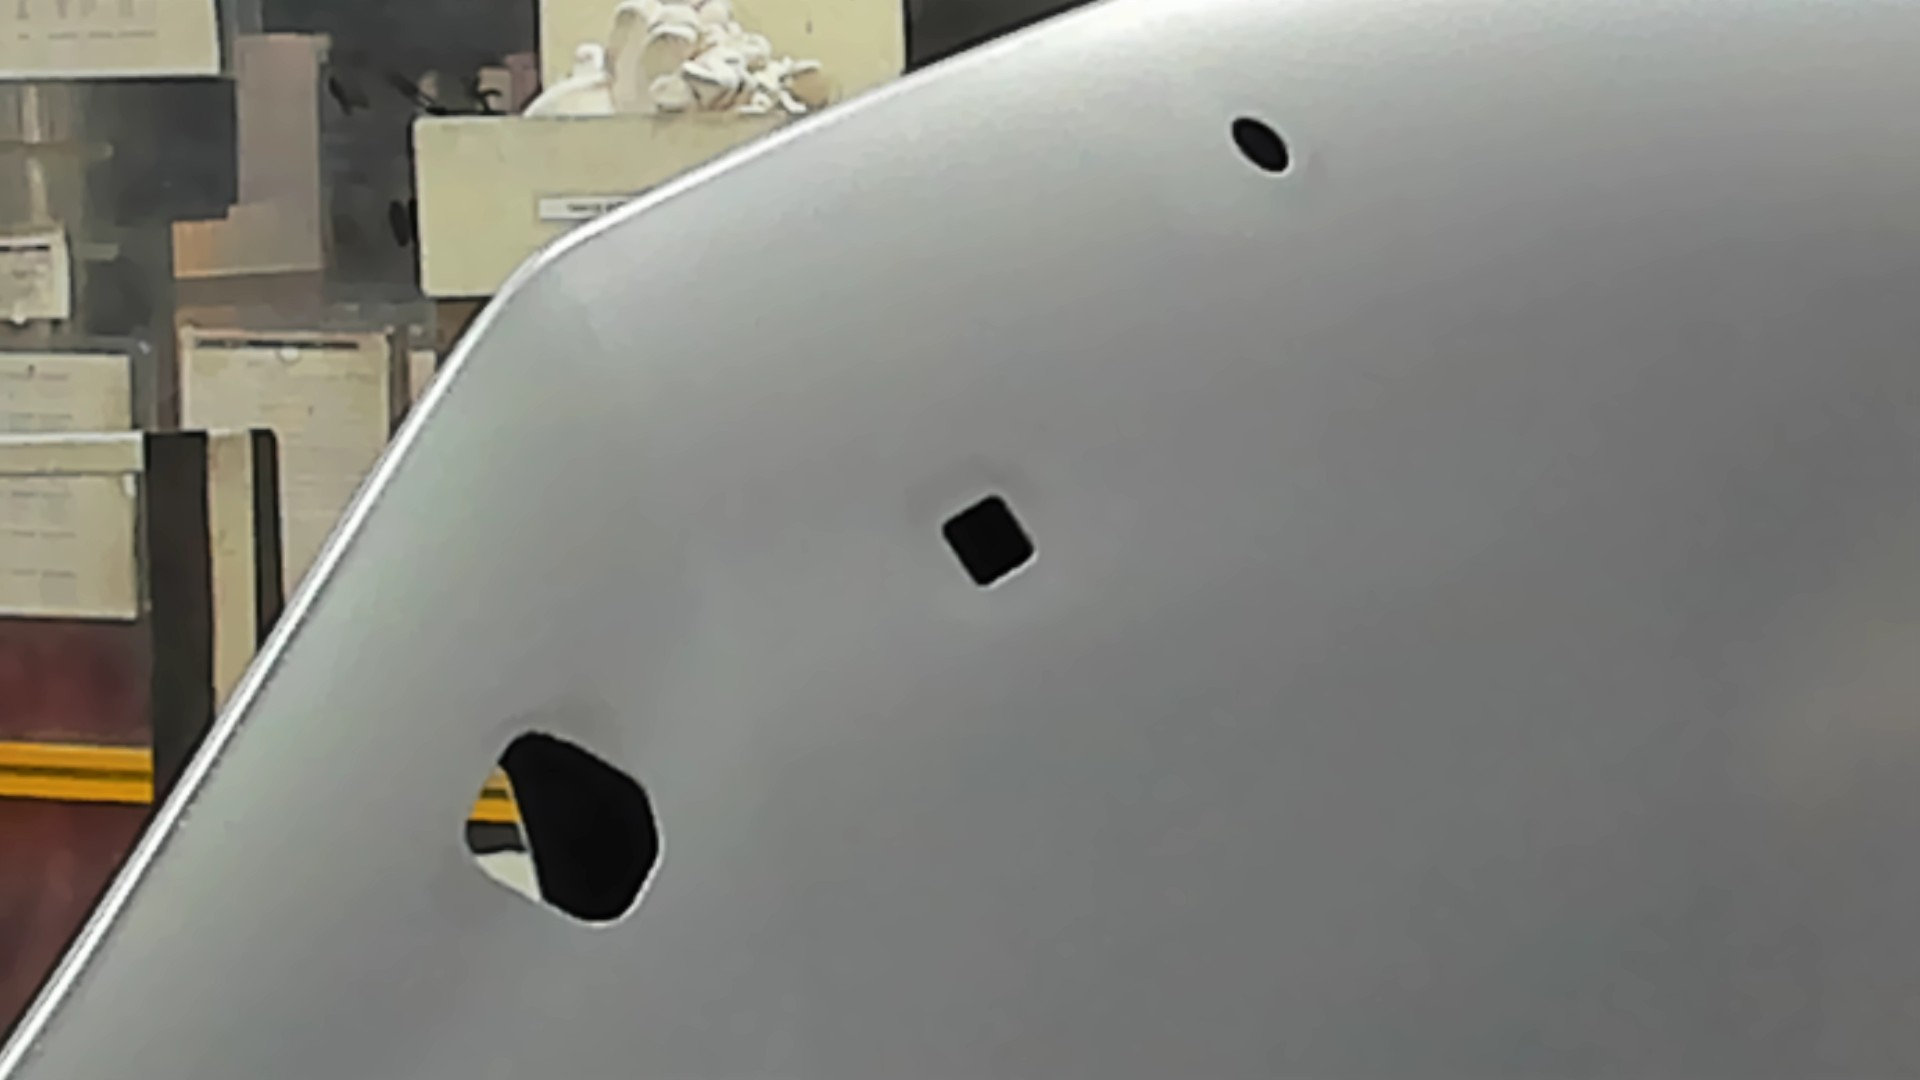chico: (1222, 111, 1294, 181)
grande: (459, 723, 663, 932)
mediano: (936, 491, 1042, 592)
